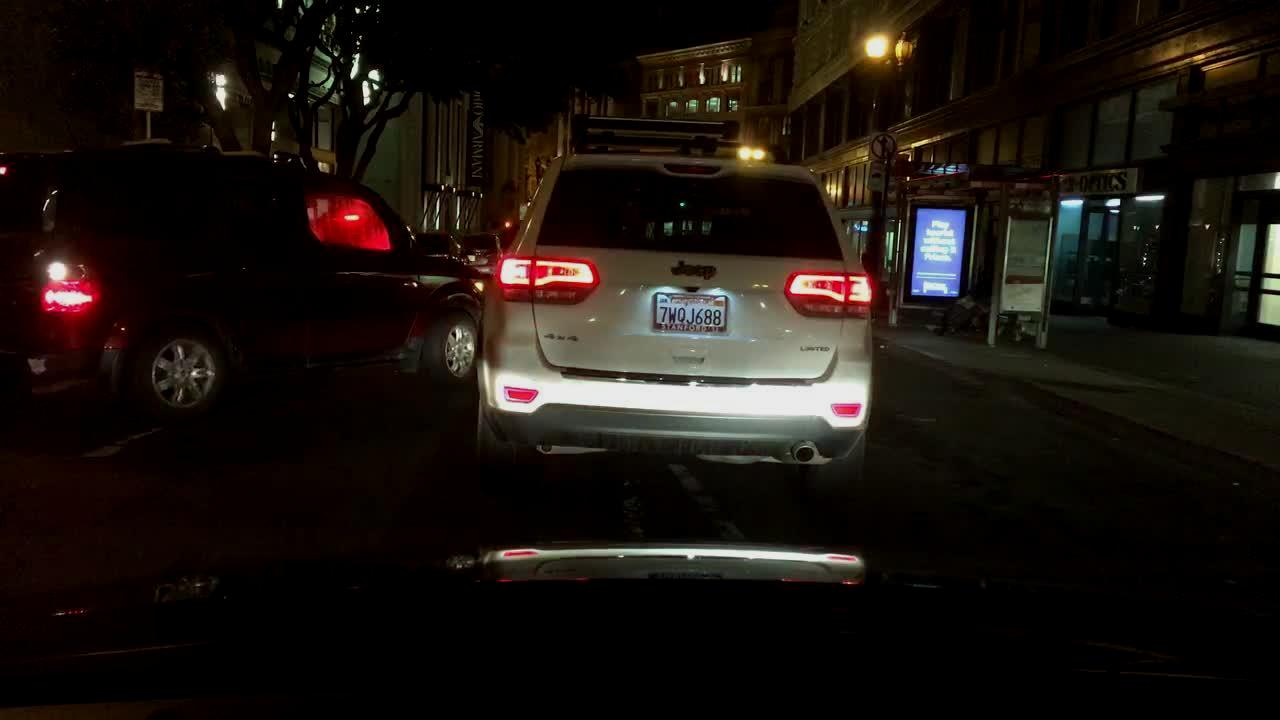jeep: (662, 254, 730, 289)
